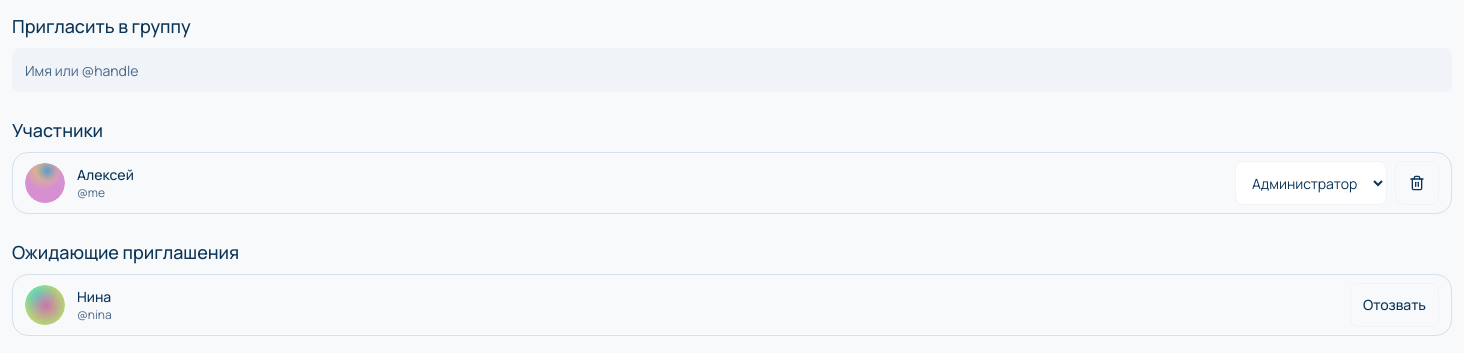
Test: AdminMemberPanel › lists pending invitations and withdraws one
Expected: the text "Нина" is shown, [77, 287, 112, 307]
Step 1. Click the button with aria-label "Отозвать приглашение для Нина" → [1394, 305], box [1350, 283, 1439, 327]
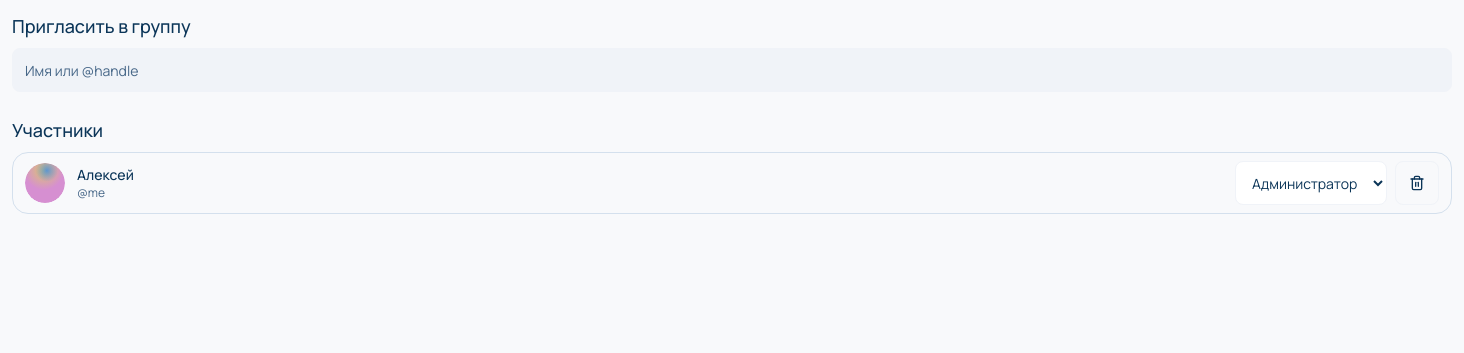
Expected: the heading "Ожидающие приглашения" is gone
